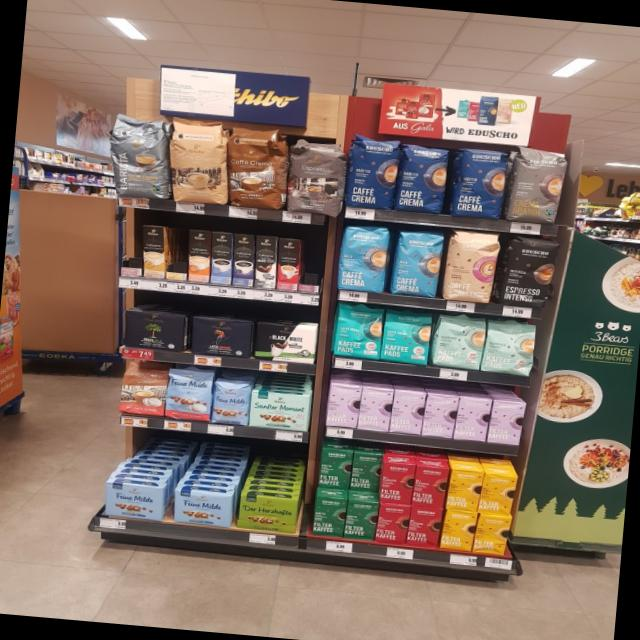BM Gemahlen: (120, 308, 188, 352)
BW Gemahlen: (252, 320, 318, 362)
Barista CC: (102, 111, 172, 202)
CC Mild: (165, 116, 232, 207)
CC Vollmundig: (118, 358, 169, 418)
CC Vollmundig 36 Pads: (222, 124, 290, 213)
Empty Shelf: (162, 226, 190, 272), (298, 240, 325, 286), (117, 222, 144, 268)
Espresso Aromatisch: (284, 133, 348, 220)
FM 36 Pads: (164, 364, 214, 424)
FM Bohne: (209, 377, 252, 428)
FM Gemahlen: (100, 478, 166, 522), (170, 487, 236, 529)
Herzhatfe Mundig: (237, 494, 302, 536)
LG Gemahlen: (187, 314, 256, 359)
SM Gemahlen: (250, 391, 312, 432)
Simo CCVollmundig bigpack: (185, 229, 212, 283)
Simo Decaff: (144, 225, 164, 277)
Simo Es Brazil: (276, 238, 302, 292)
Simo Es Elegant: (252, 234, 280, 290)
Simo Es Kraft: (230, 233, 256, 287)
Simo Es Vanilla: (208, 232, 234, 284)
